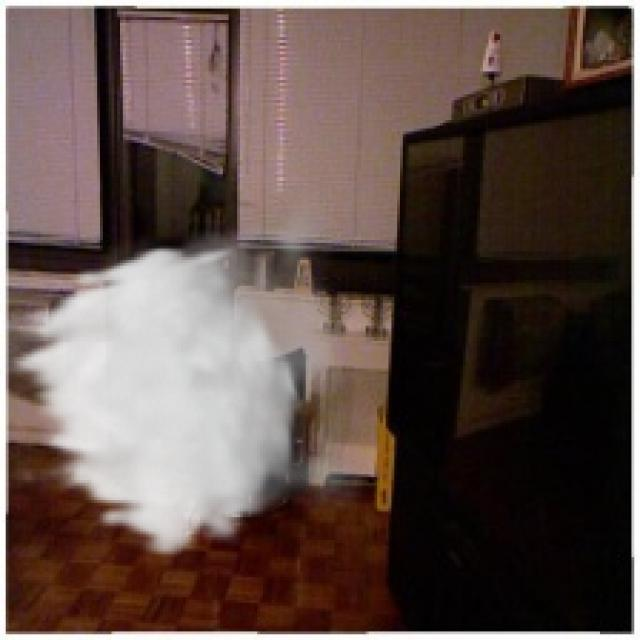Smoke: (2, 177, 372, 560)
